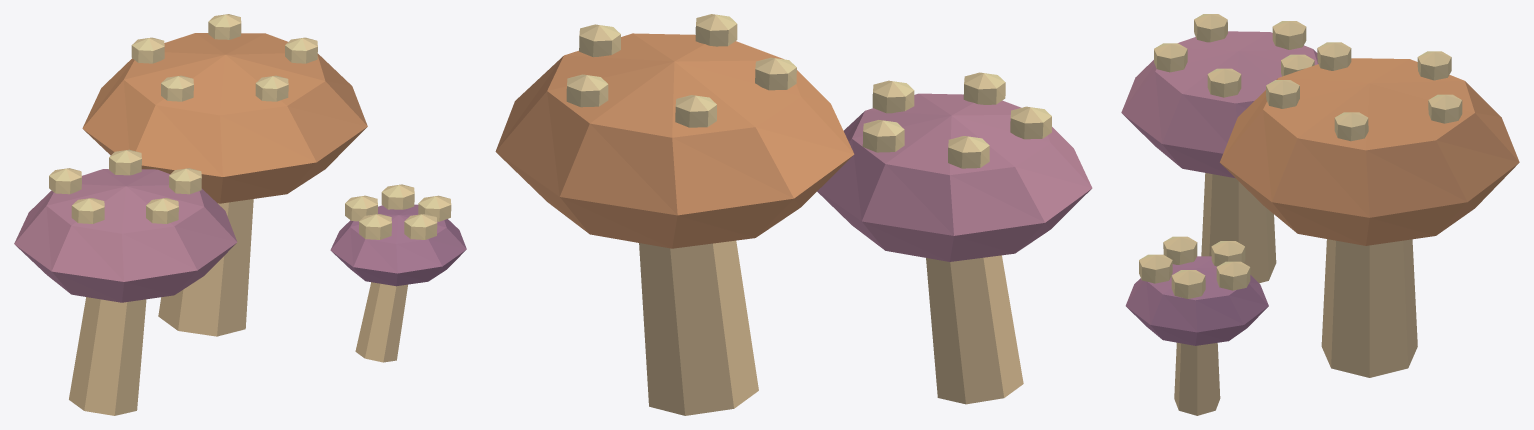
File: find_mushroom.glb
3 renders of one model, left to right at view 1: azimuth 30°, elevation 25°; view 2: azimuth 150°, elevation 25°; view 3: azimuth 270°, elevation 25°, orthographic. The views are drawn at different scales.
Visible parts, largest first — view 1: Farnwald · Pilze; view 2: Farnwald · Pilze; view 3: Farnwald · Pilze.
Part boxes in pixels (x1,y1,x2,y2): Farnwald · Pilze: [14, 14, 466, 415]; Farnwald · Pilze: [495, 14, 1092, 415]; Farnwald · Pilze: [1121, 14, 1519, 415].
Size of the model in its own units: 0.7391 by 0.4678 by 0.5776.
